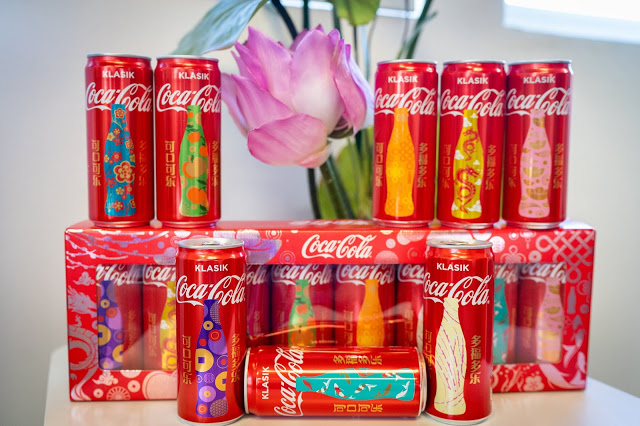cocacola_blue_flowers: (84, 53, 155, 227)
cocacola_green_apples: (158, 56, 225, 226)
cocacola_pink_feather: (508, 60, 569, 227)
cocacola_violet_balls: (179, 237, 247, 423)
cocacola_white_lines: (433, 243, 490, 421)
cocacola_yellow_dragons: (441, 60, 504, 226)
cocacola_yellow_pattern: (375, 58, 437, 225)
